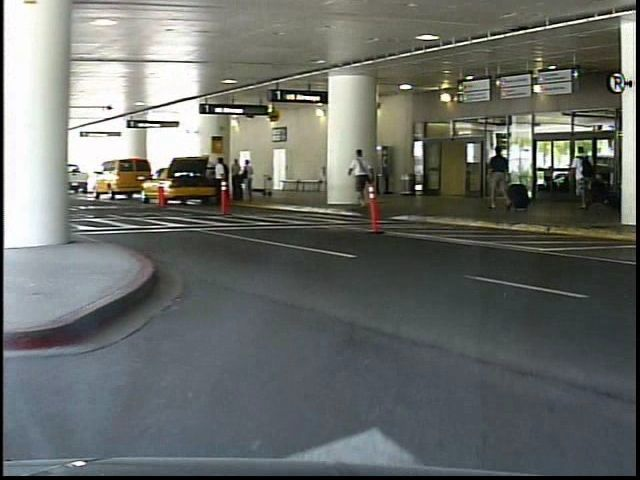person: (567, 139, 604, 221), (488, 144, 516, 212), (355, 146, 383, 212)
